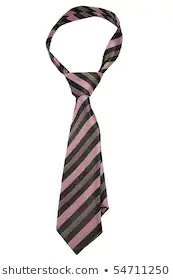F_tie: (36, 3, 129, 260)
